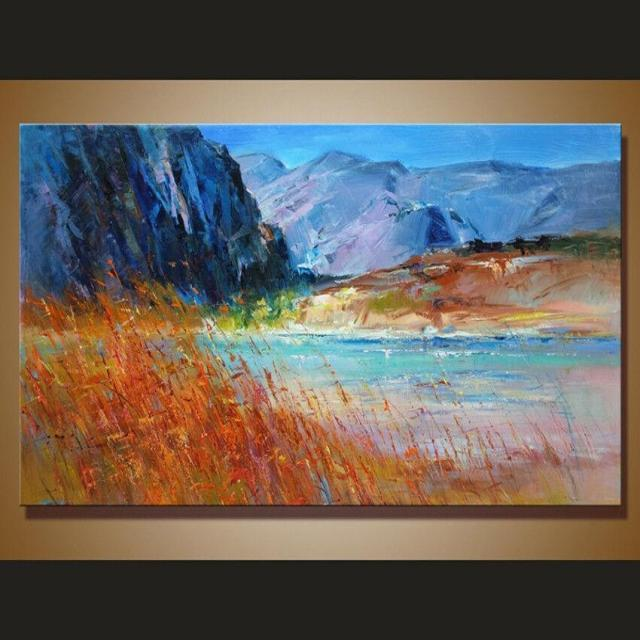painting: (20, 123, 620, 504)
